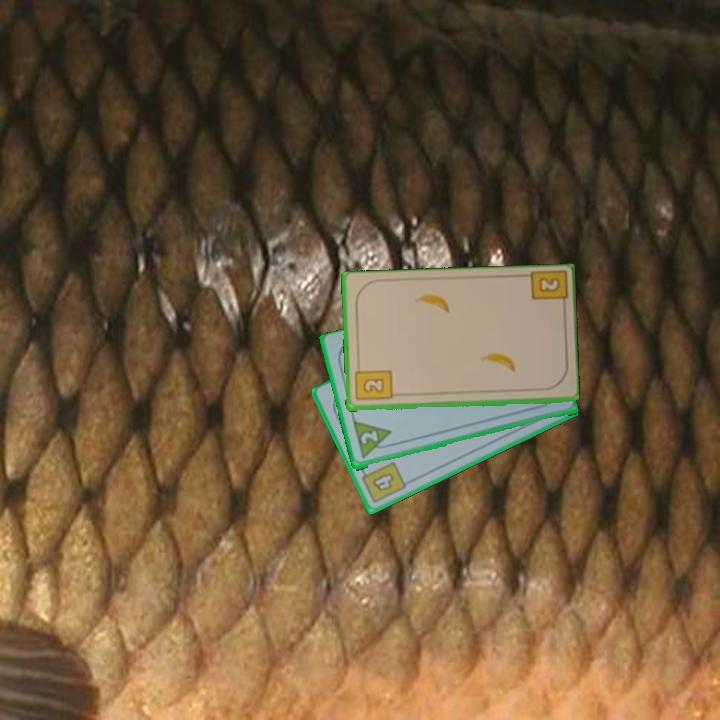2b: (525, 269, 568, 313), (351, 362, 394, 404)
2p: (349, 418, 397, 462)
4b: (357, 458, 409, 506)
